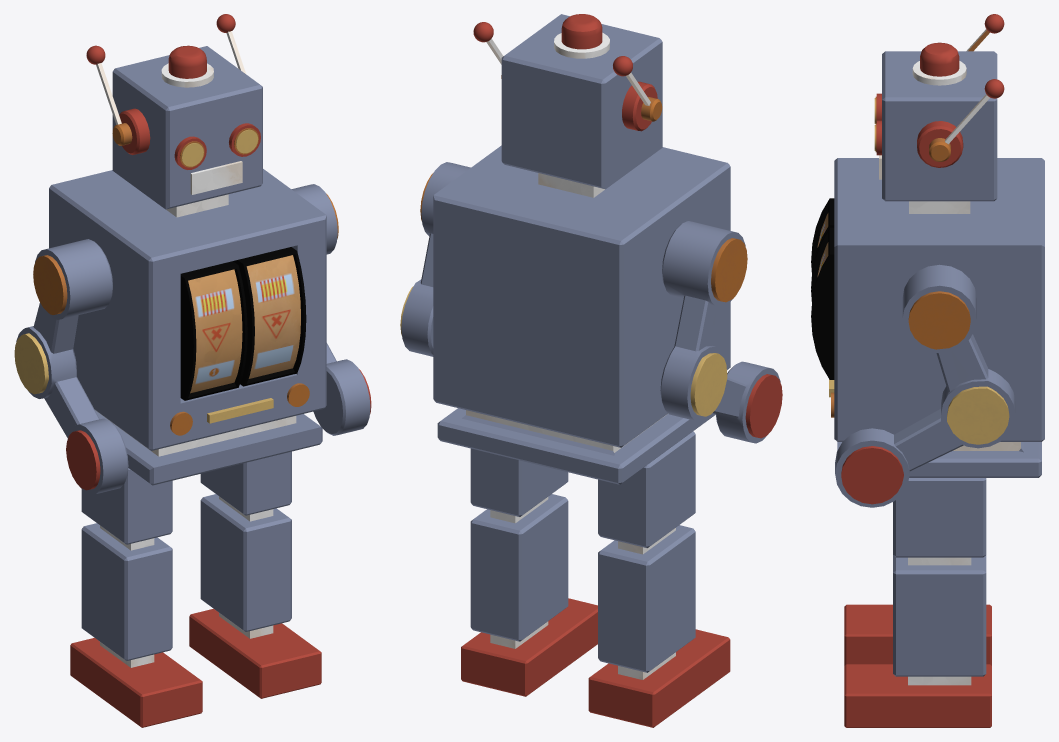
File: toyRobot.gltf
3 renders of one model, left to right at view 1: azimuth 30°, elevation 25°; view 2: azimuth 150°, elevation 25°; view 3: azimuth 270°, elevation 25°, orthographic. The views are drawn at different scales.
Visible parts, largest first — view 1: robot; view 2: robot; view 3: robot.
Boxes of the visible parts, x1,y1,x2,y2 form: robot: (14, 14, 371, 727); robot: (400, 14, 782, 727); robot: (811, 14, 1044, 727).
Bounding box in the file's own units: 2.18 × 4.7 × 1.56.
Materials: 8 (6 with a texture image).
